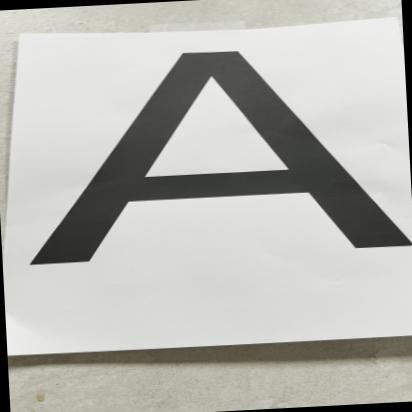seat: (15, 38, 412, 288)
